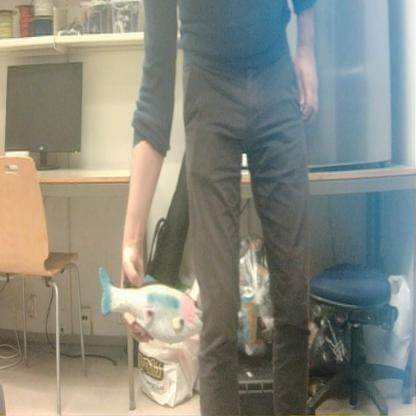rubberfish: (95, 260, 207, 346)
